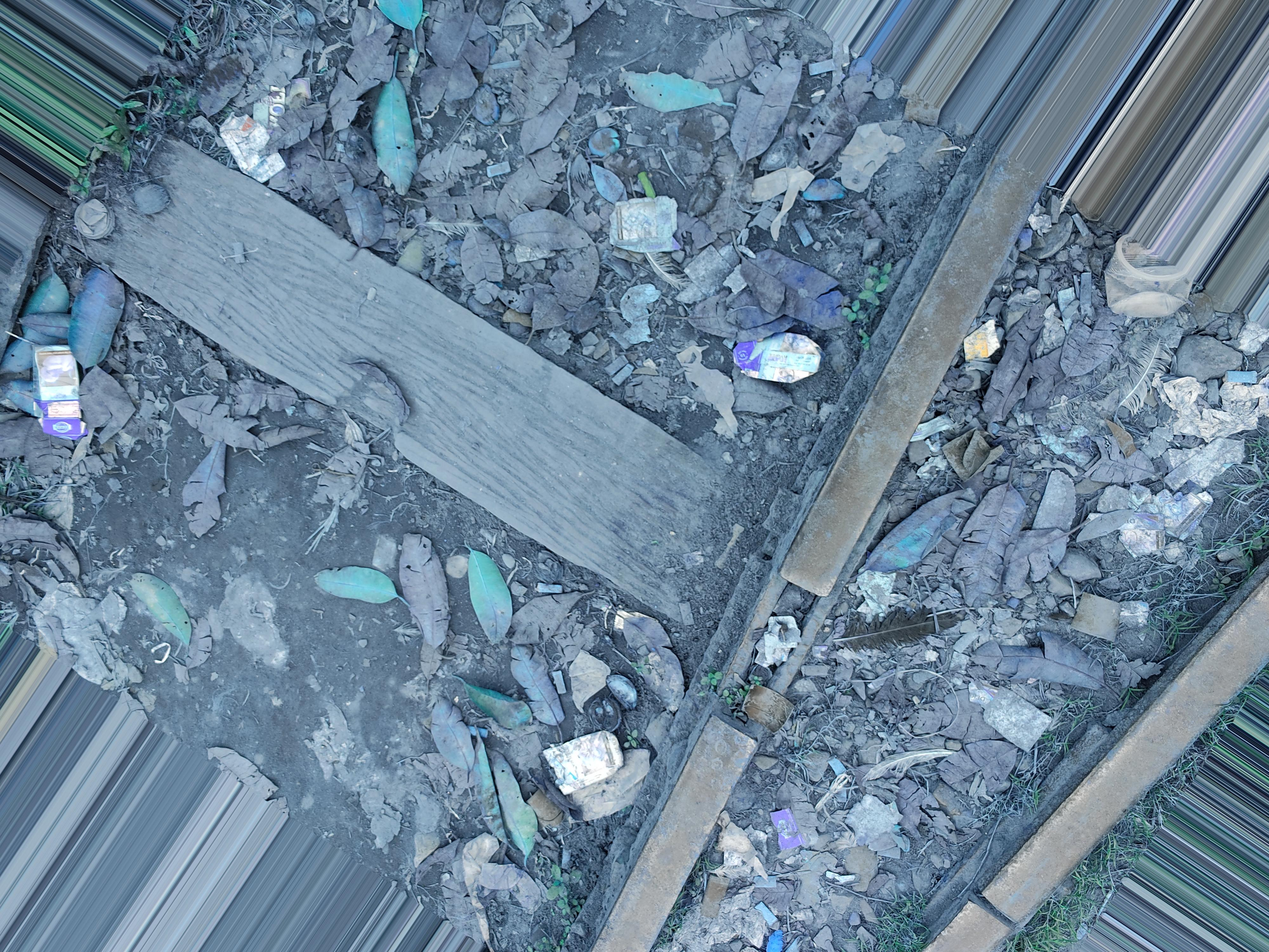tracks_fault: (713, 556, 839, 762)
